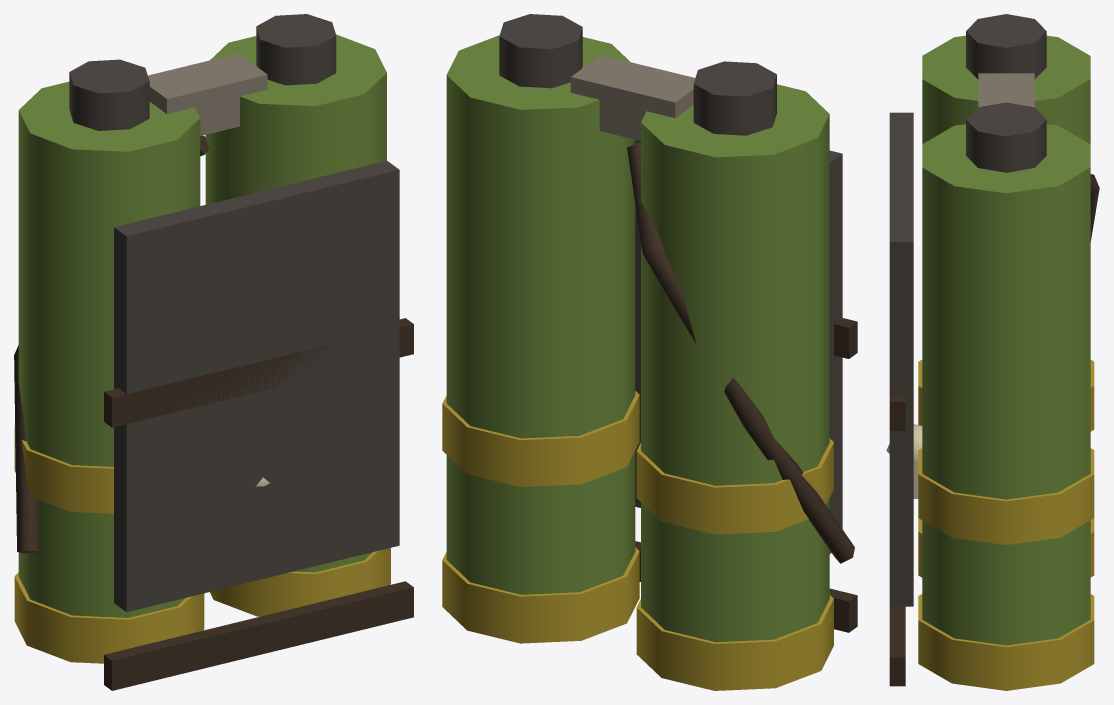
3 views of the same model, side by side, from view 1: azimuth 30°, elevation 25°; view 2: azimuth 150°, elevation 25°; view 3: azimuth 270°, elevation 25° (orthographic). The views are drawn at different scales.
Visible parts, largest first — view 1: raider_gear_chem_tank; view 2: raider_gear_chem_tank; view 3: raider_gear_chem_tank.
Part boxes in pixels (<box>): raider_gear_chem_tank: <box>14,14,413,690</box>; raider_gear_chem_tank: <box>442,14,857,690</box>; raider_gear_chem_tank: <box>886,14,1099,690</box>.
Size of the model in its own units: 0.518 by 0.74 by 0.2652.
